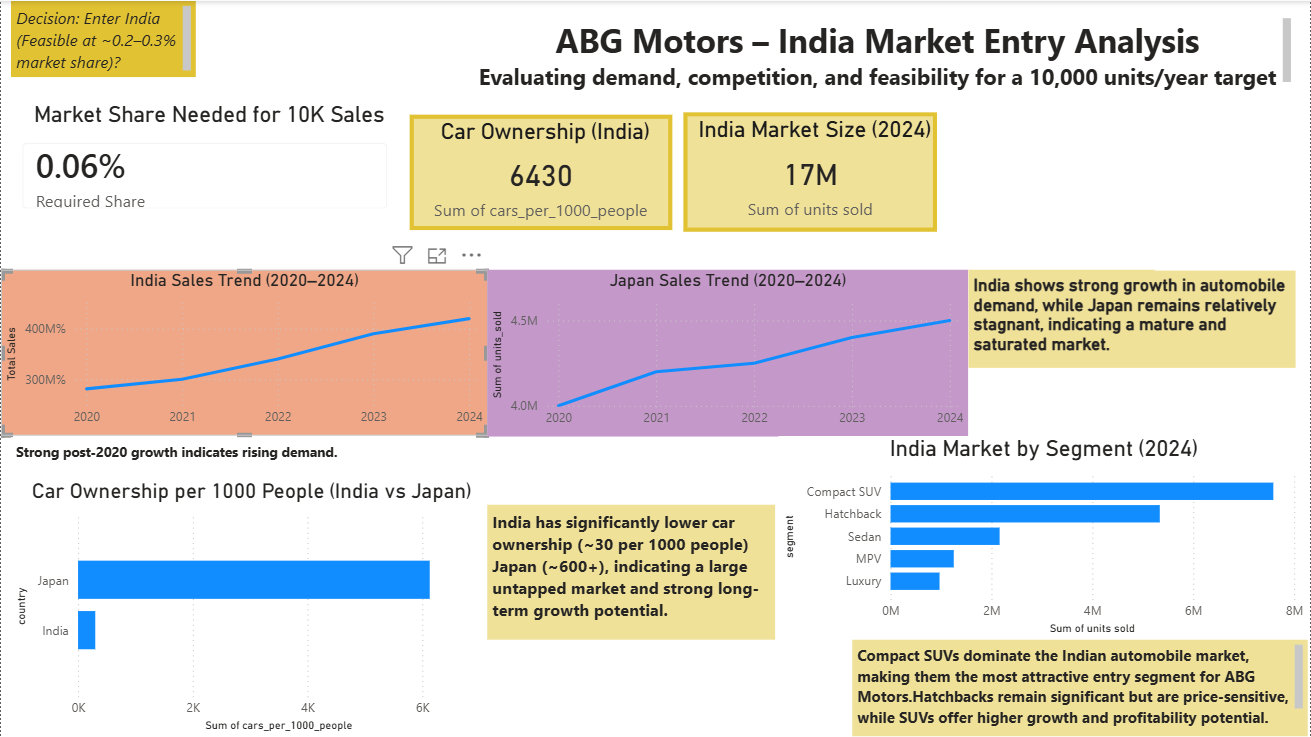

The page's visual inventory and layout, read from the dashboard file:
{"tool":"powerbi","page":{"name":"Page 1","canvas":[1280,720],"ordinal":0},"visuals":[{"type":"card","title":"India Market Size (2024)","fields":{"Values":["Sum(india_car_sales.units_sold_india)"]},"box":[668.3,108.4,248.4,116.6],"z":0},{"type":"cardVisual","title":"Market Share Needed for 10K Sales","fields":{"Data":["india_car_sales.Required Share"]},"box":[0,94.7,399.3,130.4],"z":1000},{"type":"card","title":"Car Ownership (India)","fields":{"Values":["Sum(public macro_indicators.cars_per_1000_people)"]},"box":[399.3,111.1,256.6,112.5],"z":2000},{"type":"lineChart","title":"India Sales Trend (2020–2024)","fields":{"Category":["india_car_sales.year"],"Y":["india_car_sales.Total Sales"]},"box":[0,263.5,476.2,161.9],"z":3000},{"type":"lineChart","title":"Japan Sales Trend (2020–2024)","fields":{"Category":["public japan_car_sales.year"],"Y":["Sum(public japan_car_sales.units_sold)"]},"box":[476.2,263.5,470.7,163.3],"z":4000},{"type":"textbox","box":[9.6,426.8,337.6,30.2],"z":5000},{"type":"textbox","box":[946.8,263.5,319.7,96.1],"z":6000},{"type":"clusteredBarChart","title":"Car Ownership per 1000 People (India vs Japan)","fields":{"Y":["Sum(public macro_indicators.cars_per_1000_people)"],"Category":["public macro_indicators.country"]},"box":[9.6,466.6,470.7,252.5],"z":7000},{"type":"textbox","box":[475.7,492.8,281.3,132.1],"z":8000},{"type":"textbox","box":[1129,113,150,151],"z":9000},{"type":"textbox","box":[947,570,320,150],"z":10000},{"type":"textbox","box":[444.6,0,834.3,108.4],"z":11000},{"type":"textbox","box":[9.6,0,181.1,74.1],"z":12000},{"type":"clusteredBarChart","title":"India Market by Segment (2024)","fields":{"Category":["india_car_sales.segment"],"Y":["Sum(india_car_sales.units_sold_india)"]},"box":[760.2,425.4,518.7,199],"z":14000},{"type":"textbox","box":[832.9,624.4,446,94.7],"z":14001}]}

Visuals, with their boxes in screenshot pixels (x1, y1, x2, y2), scaled from the page's 1280x720 canvas onto the 1311x737 screenshot:
"India Market Size (2024)" card: crop(684, 111, 939, 230)
"Market Share Needed for 10K Sales" cardVisual: crop(0, 97, 409, 230)
"Car Ownership (India)" card: crop(409, 114, 672, 229)
"India Sales Trend (2020–2024)" lineChart: crop(0, 270, 488, 435)
"Japan Sales Trend (2020–2024)" lineChart: crop(488, 270, 970, 437)
textbox: crop(10, 437, 356, 468)
textbox: crop(970, 270, 1297, 368)
"Car Ownership per 1000 People (India vs Japan)" clusteredBarChart: crop(10, 478, 492, 736)
textbox: crop(487, 504, 775, 640)
textbox: crop(1156, 116, 1310, 270)
textbox: crop(970, 583, 1298, 736)
textbox: crop(455, 0, 1310, 111)
textbox: crop(10, 0, 195, 76)
"India Market by Segment (2024)" clusteredBarChart: crop(779, 435, 1310, 639)
textbox: crop(853, 639, 1310, 736)
